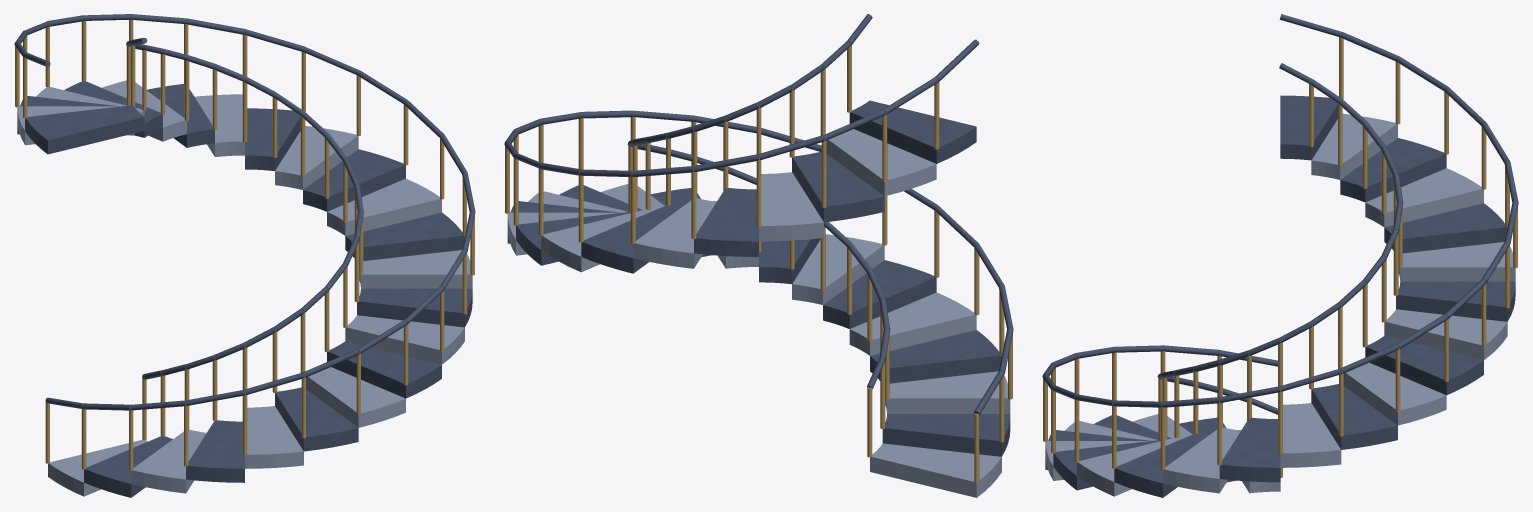
File: stairs-spiral.glb
3 views of the same model, side by side, from view 1: azimuth 30°, elevation 25°; view 2: azimuth 150°, elevation 25°; view 3: azimuth 270°, elevation 25° (orthographic). The views are drawn at different scales.
Visible parts, largest first — view 1: stairs-spiral_stone, stairs-spiral_edge, stairs-spiral_gold; view 2: stairs-spiral_stone, stairs-spiral_edge, stairs-spiral_gold; view 3: stairs-spiral_stone, stairs-spiral_edge, stairs-spiral_gold.
Part boxes in pixels (left/top/right/bottom): stairs-spiral_stone: left=14, top=14, right=475, bottom=497; stairs-spiral_edge: left=17, top=80, right=472, bottom=496; stairs-spiral_gold: left=15, top=19, right=474, bottom=470; stairs-spiral_stone: left=504, top=14, right=1013, bottom=456; stairs-spiral_edge: left=507, top=129, right=1010, bottom=497; stairs-spiral_gold: left=505, top=45, right=1012, bottom=483; stairs-spiral_stone: left=1042, top=14, right=1518, bottom=497; stairs-spiral_edge: left=1045, top=113, right=1515, bottom=496; stairs-spiral_gold: left=1043, top=37, right=1517, bottom=477.
Bounding box in the file's own units: 5.37 × 5.33 × 5.37.
3 materials, 1 textured.
